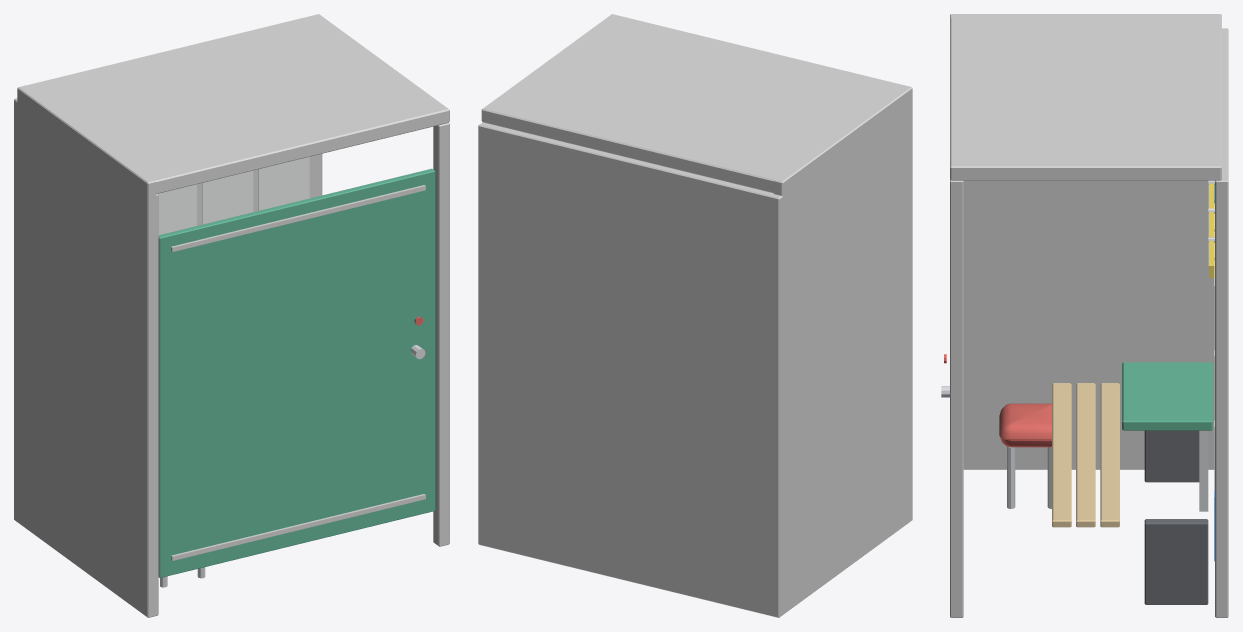
File: public-swimming-baths-and-poolside-family-changing-cub-e3c4b43d__35264.glb
3 views of the same model, side by side, from view 1: azimuth 30°, elevation 25°; view 2: azimuth 150°, elevation 25°; view 3: azimuth 270°, elevation 25° (orthographic). The views are drawn at different scales.
Visible parts, largest first — view 1: family-changing-cubicle, cubicle-door/green, cubicle-door/white; view 2: family-changing-cubicle; view 3: family-changing-cubicle.
Boxes of the visible parts, x1,y1,x2,y2 form: family-changing-cubicle: [14, 14, 449, 617]; cubicle-door/green: [158, 168, 435, 577]; cubicle-door/white: [171, 185, 425, 560]; family-changing-cubicle: [478, 14, 912, 617]; family-changing-cubicle: [950, 14, 1228, 617].
Size of the model in its own units: 1.6 by 2.2 by 1.27.
